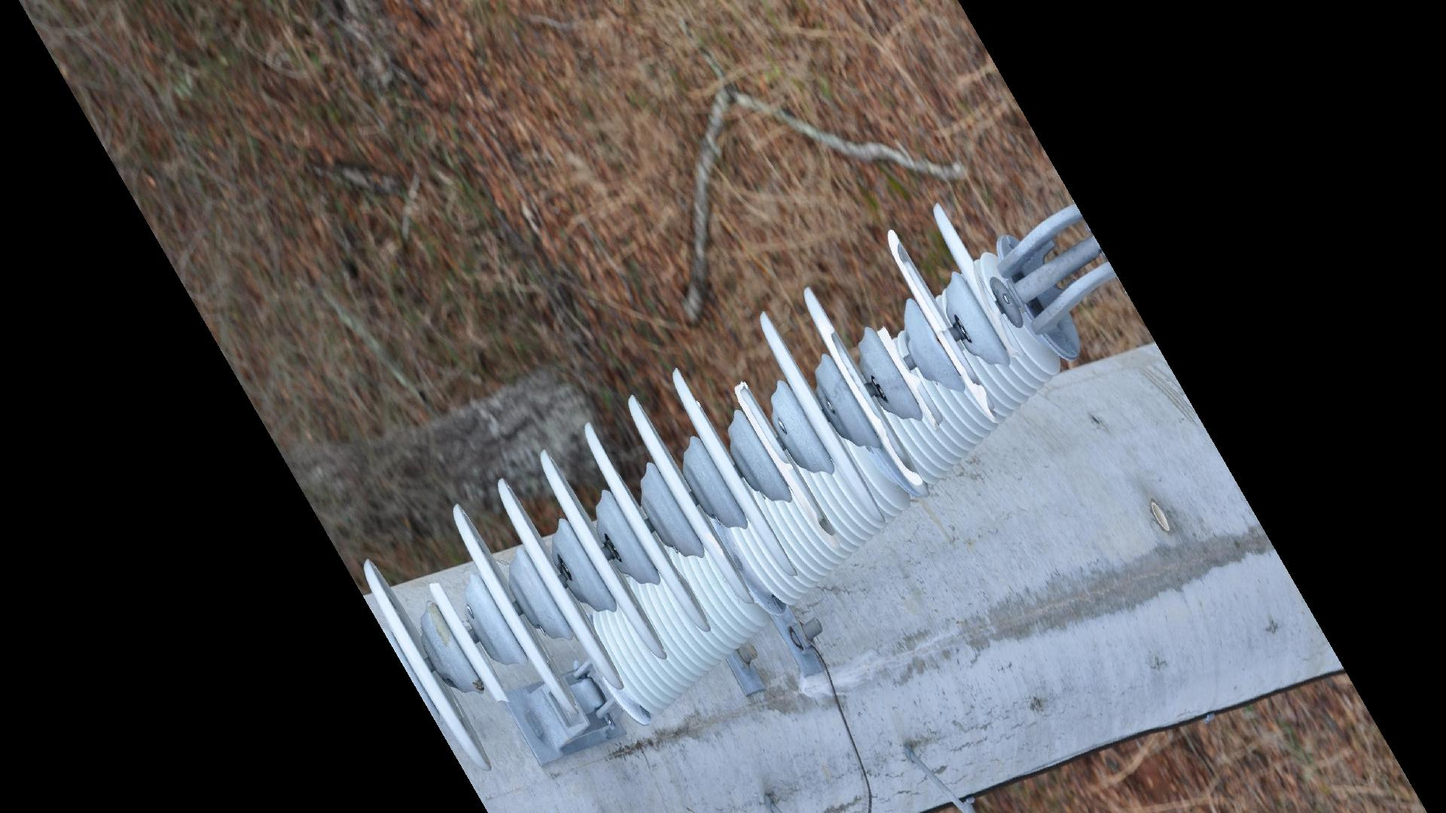insulator: (354, 199, 1039, 778), (591, 293, 1068, 717)
insulator_breakage: (881, 223, 1004, 431), (810, 313, 926, 495), (728, 376, 844, 553), (422, 577, 517, 709), (868, 317, 945, 436), (965, 252, 1027, 365)
